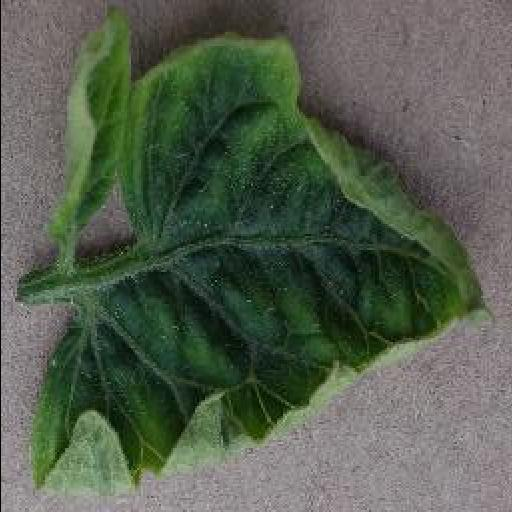disease_tomato: (32, 10, 502, 496)
